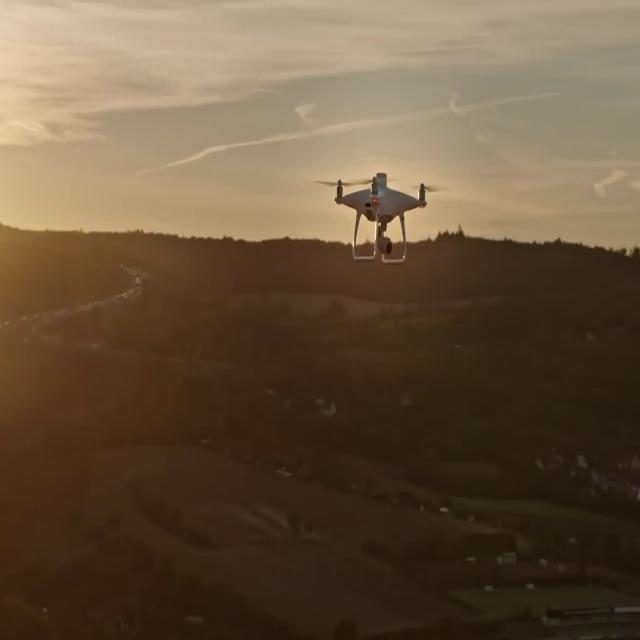drone: (313, 170, 446, 266)
